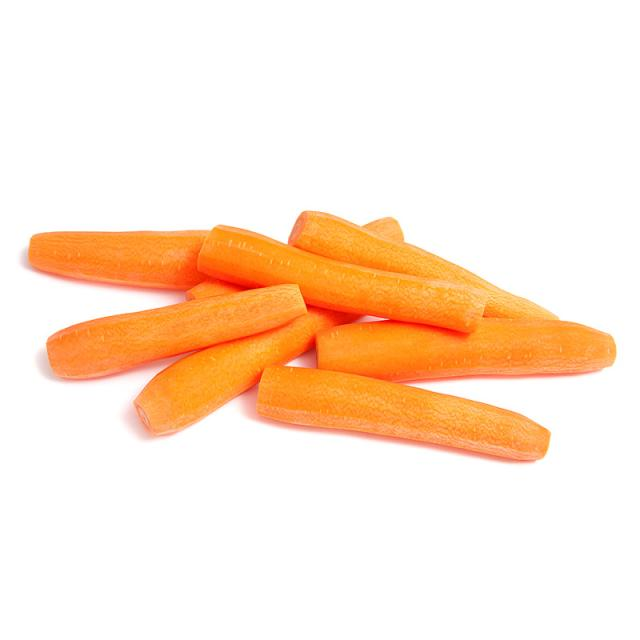Carrot: (316, 321, 630, 383)
